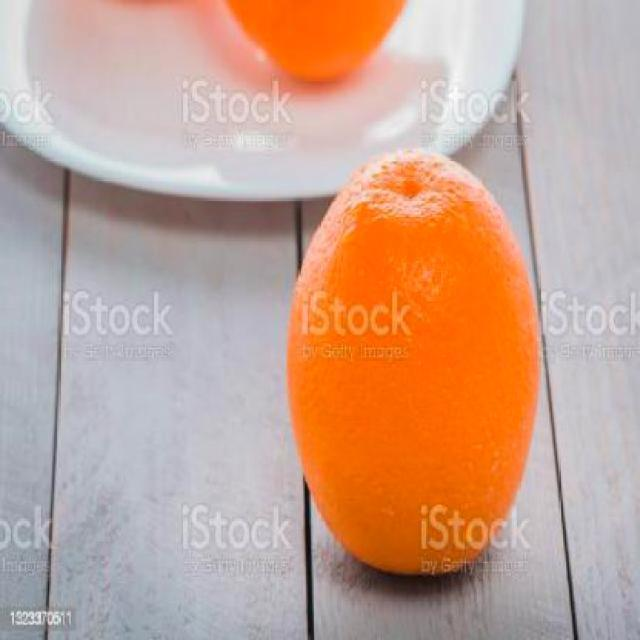Jeruk Sudah Matang: (286, 150, 539, 578)
